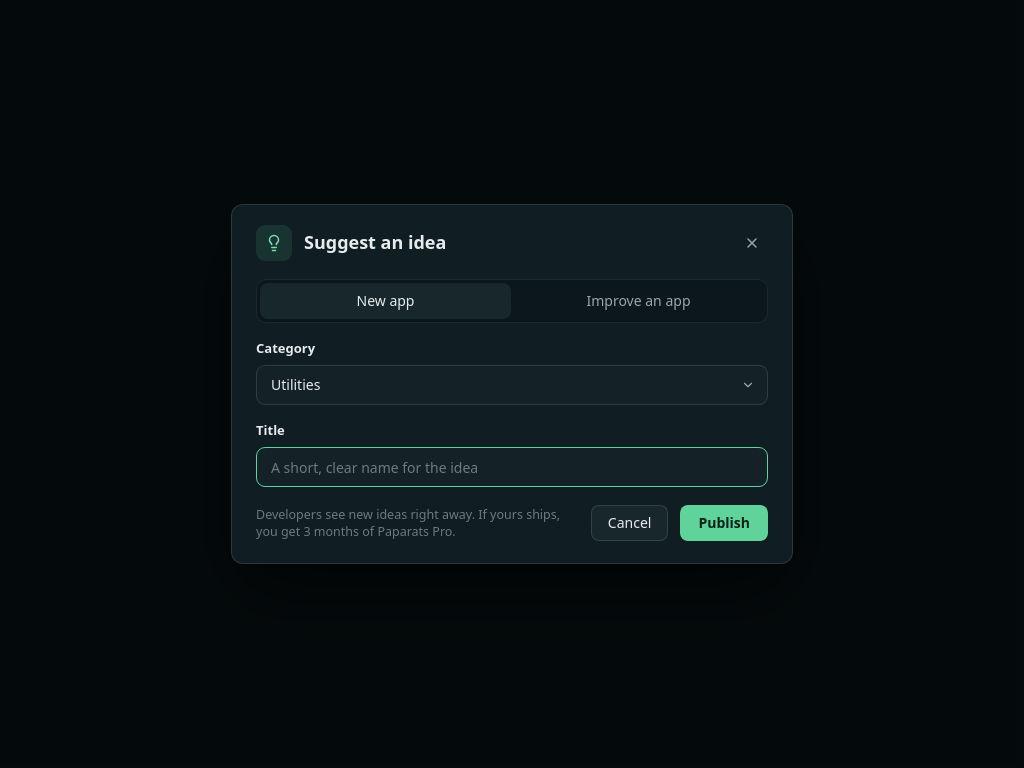
it: SuggestIdeaDialog › refuses a title under six characters and clears the error on edit
Click the button "Publish".
click(724, 523)  # box [680,505,768,541]
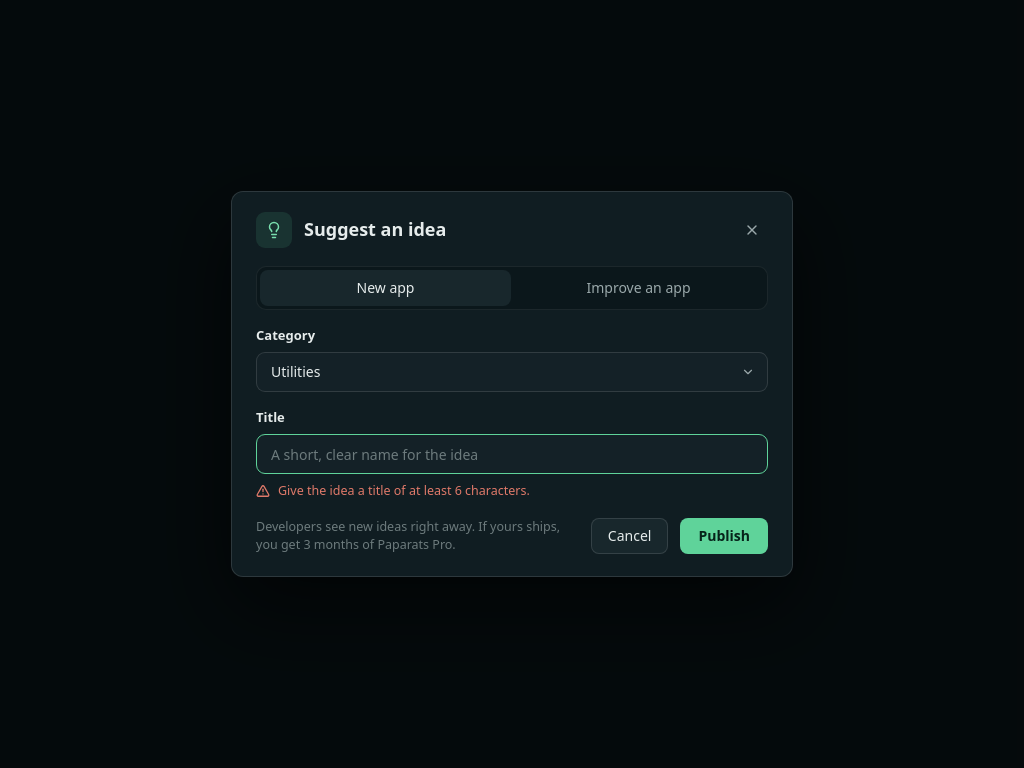
Check: the text "Give the idea a title of at least 6 characters." is shown, box [278,482,530,500]
# Five characters after trimming are still too short.
Type "  Short  " into the field labelled "Title".
click(512, 454); type("  Short  ")  # box [256,434,768,474]
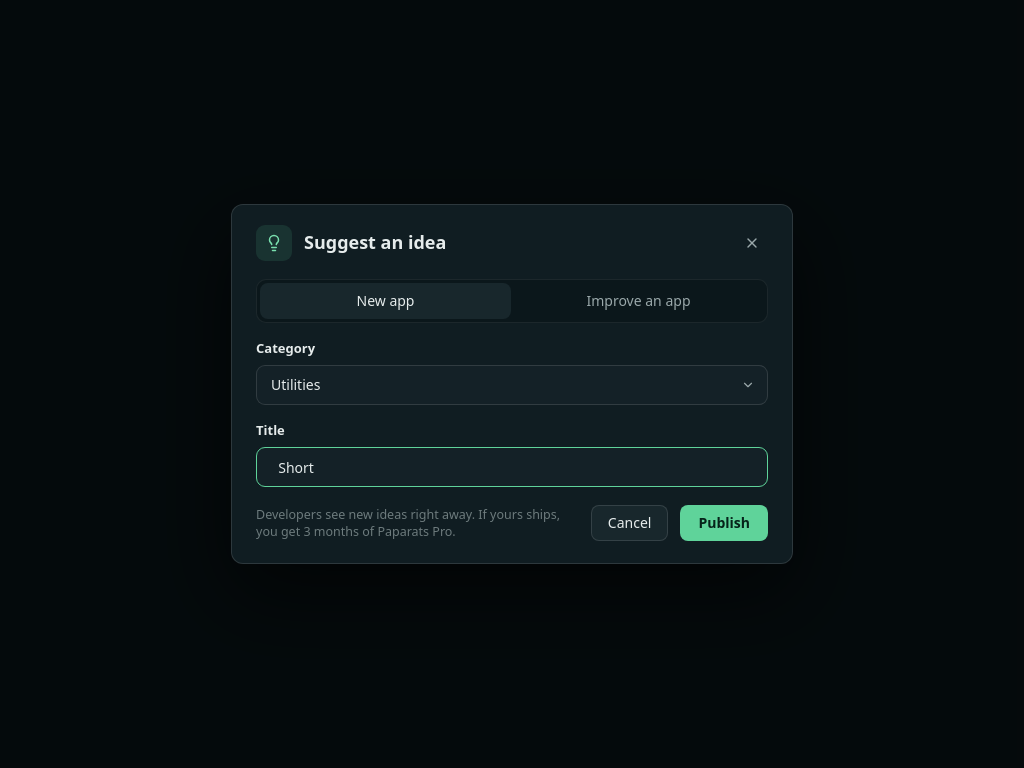
Check: the text "Give the idea a title of at least 6 characters." is gone
Press Enter
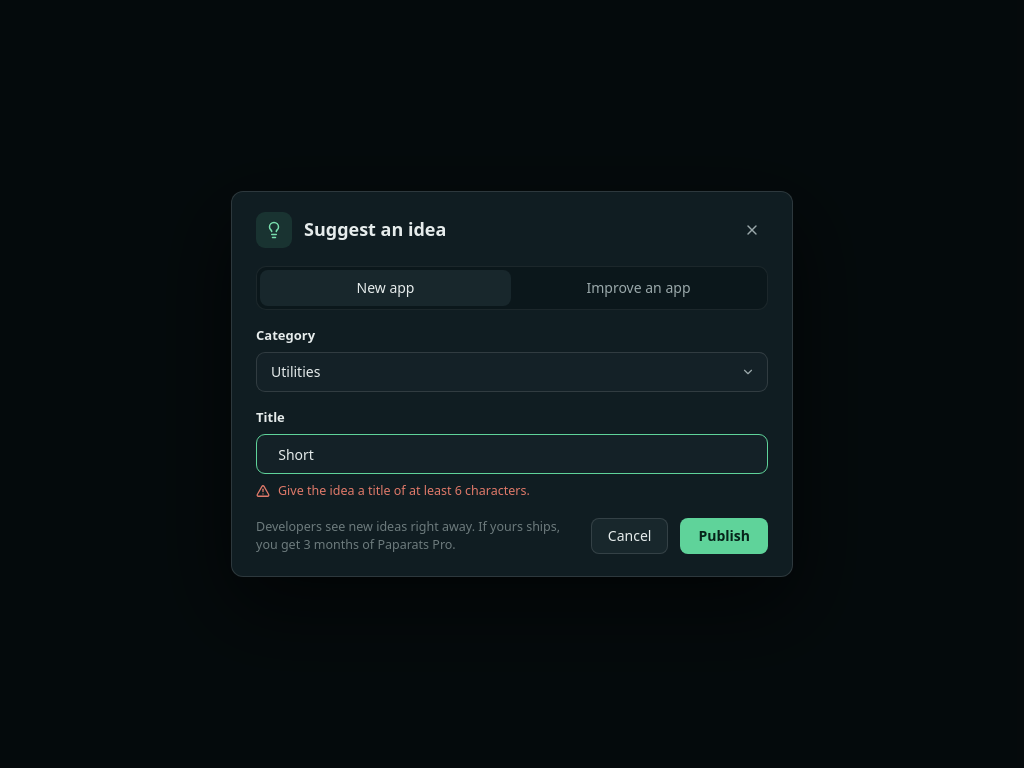
Check: the text "Give the idea a title of at least 6 characters." is shown, box [278,482,530,500]
# Any field clears it, the kind toggle too.
Click the radio button labelled "Improve an app".
click(638, 288)  # box [513,270,764,306]
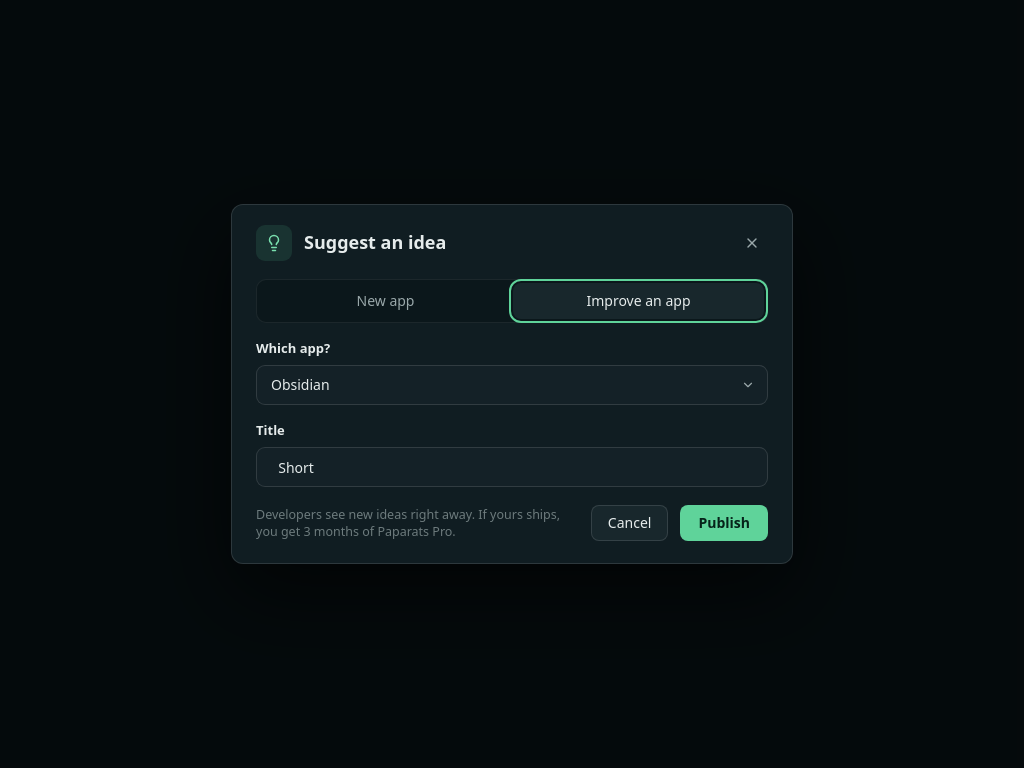
Check: the text "Give the idea a title of at least 6 characters." is gone
